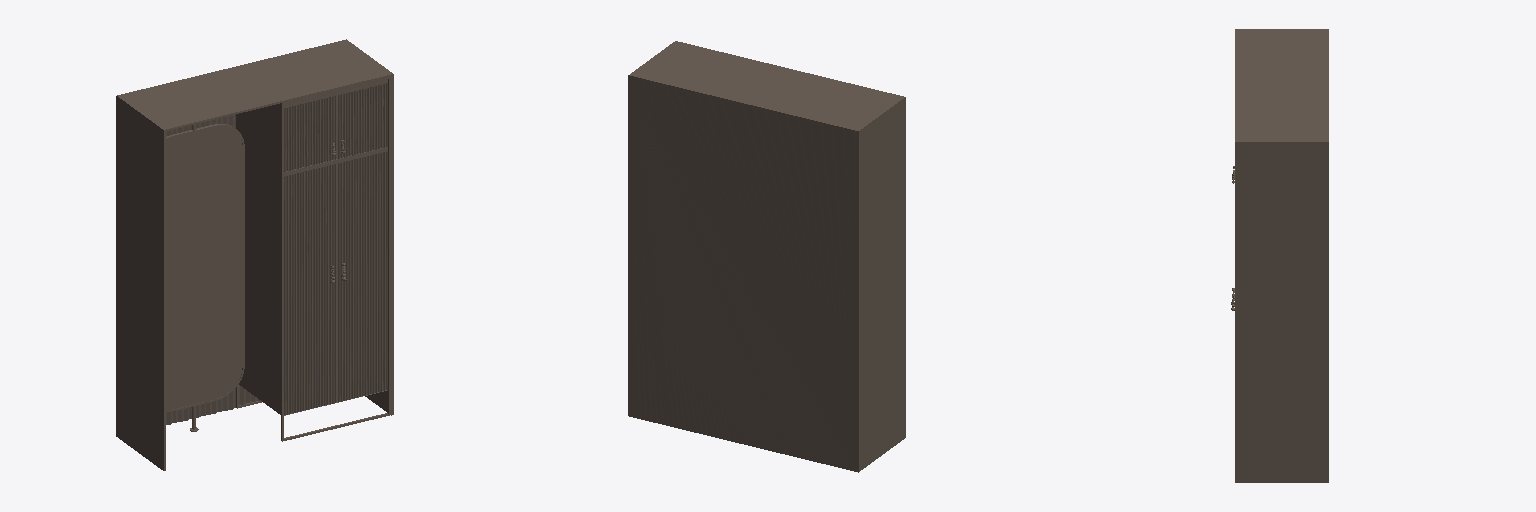
3 views of the same model, side by side, from view 1: azimuth 30°, elevation 25°; view 2: azimuth 150°, elevation 25°; view 3: azimuth 270°, elevation 25° (orthographic).
Visible parts, largest first — view 1: solid_001, solid_003, solid_004, glass_001; view 2: glass_001, solid_003; view 3: solid_003.
Part boxes in pixels (bbox=[...]): solid_001: bbox=[237, 79, 387, 415]; solid_003: bbox=[116, 39, 393, 470]; solid_004: bbox=[166, 127, 242, 409]; glass_001: bbox=[166, 114, 260, 424]; glass_001: bbox=[631, 76, 855, 471]; solid_003: bbox=[628, 41, 905, 472]; solid_003: bbox=[1231, 29, 1328, 482].
Bounding box in the file's own units: 1.04 × 1.48 × 0.3842.